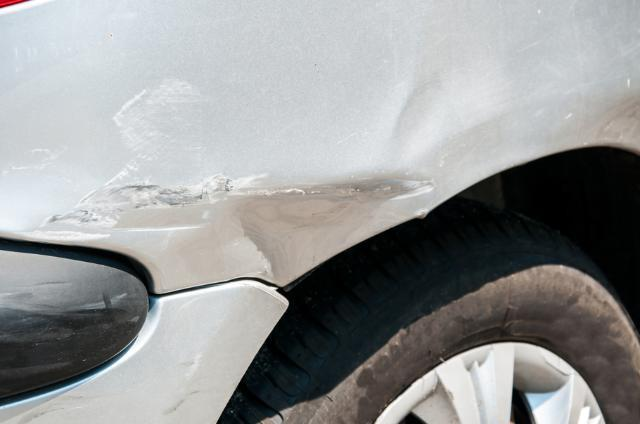Fender: (105, 42, 525, 288)
